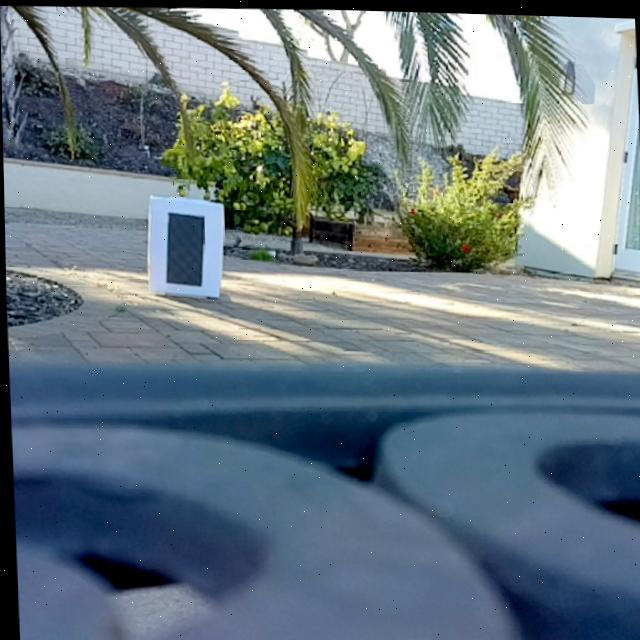led: (163, 209, 205, 288)
